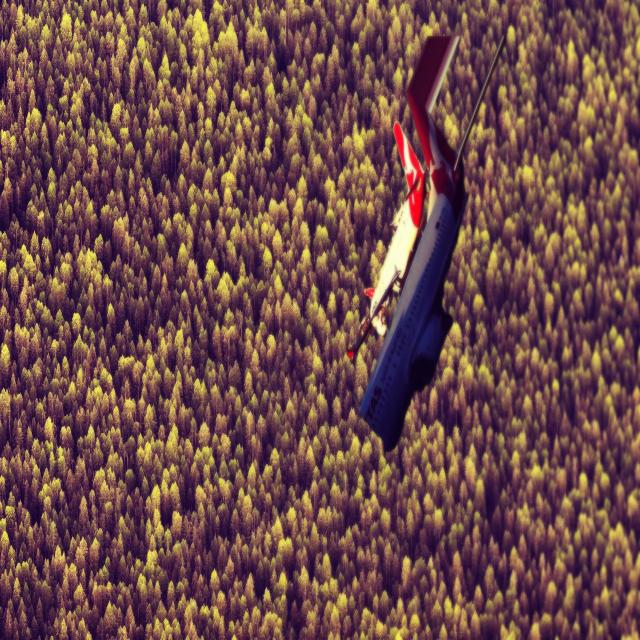airplane: (346, 30, 506, 453)
